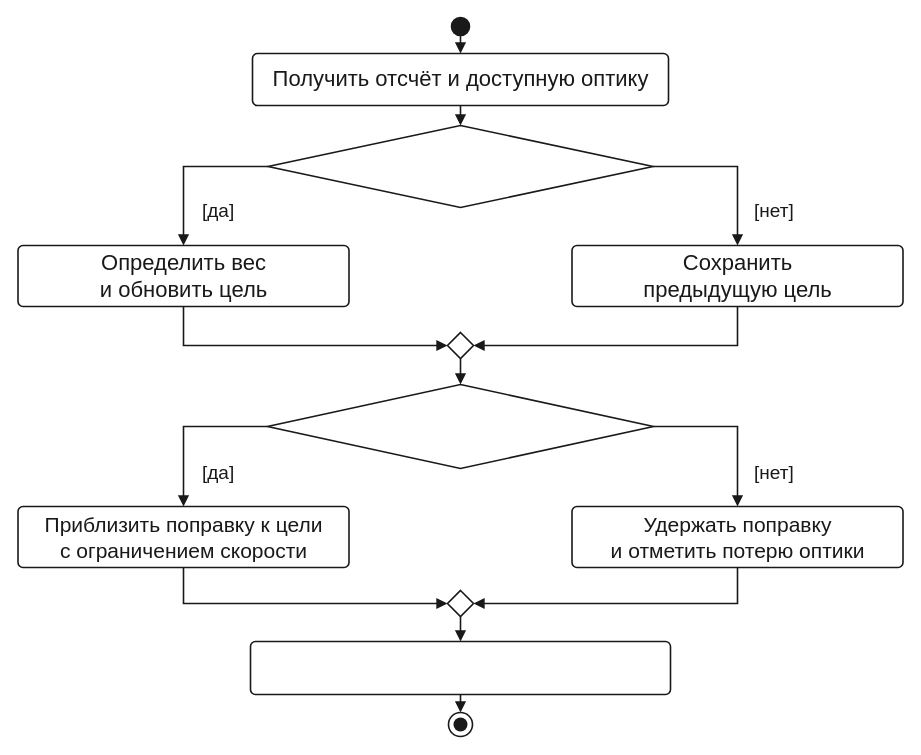
Some shapes in this 921 by 755 pixel diagram are drawn without their labels. The box of each missing label's shape, as (x1, y1, x2, y2) in pixels:
Выдать исправленную ориентацию и статус: (249, 640, 671, 695)
Есть новая пригодная пара?: (267, 124, 653, 208)
Оптика актуальна? Возраст ≤ 200 мс: (266, 383, 654, 469)
